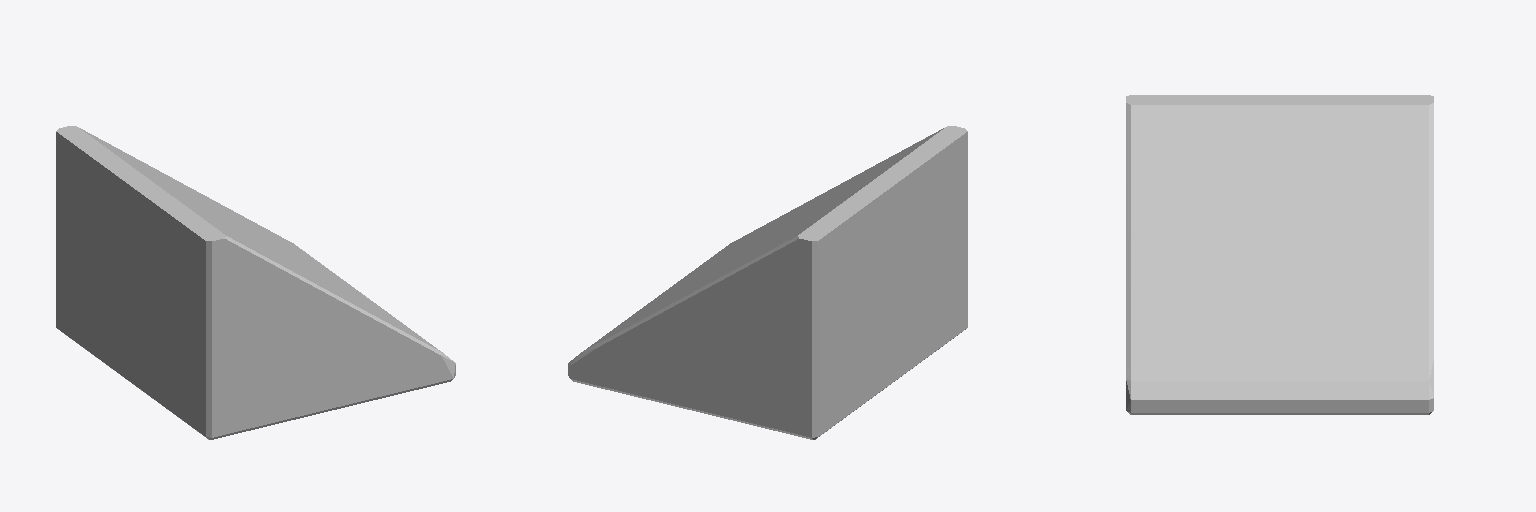
File: wedge_short_stout.obj
3 renders of one model, left to right at view 1: azimuth 30°, elevation 25°; view 2: azimuth 150°, elevation 25°; view 3: azimuth 270°, elevation 25°, orthographic.
Visible parts, largest first — view 1: convex_0; view 2: convex_0; view 3: convex_0.
Part boxes in pixels (x1,y1,x2,y2): convex_0: (56,126,455,439); convex_0: (568,126,967,439); convex_0: (1126,95,1433,414).
Bounding box in the file's own units: 24.19 × 18.55 × 25.8.